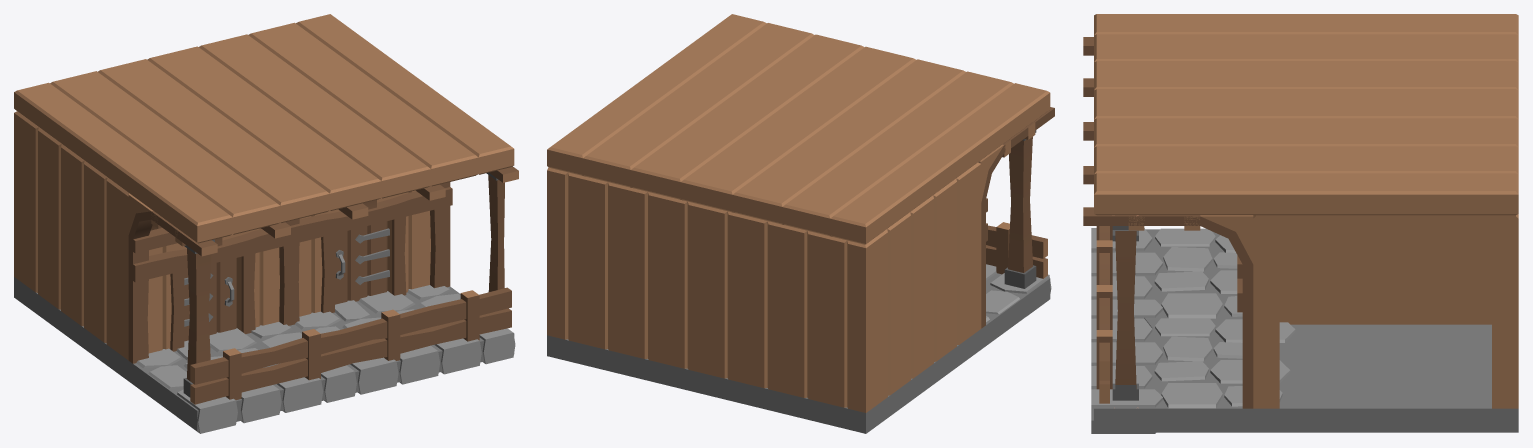
File: LivingRooms_Lvl_02_Straight_Left.fbx
3 views of the same model, side by side, from view 1: azimuth 30°, elevation 25°; view 2: azimuth 150°, elevation 25°; view 3: azimuth 270°, elevation 25° (orthographic). The views are drawn at different scales.
Parts seen in each view (by area): view 1: LivingRooms_Lvl_02_Straight_Left; view 2: LivingRooms_Lvl_02_Straight_Left; view 3: LivingRooms_Lvl_02_Straight_Left.
Boxes of the visible parts, <box> form: LivingRooms_Lvl_02_Straight_Left: <box>14,14,518,433</box>; LivingRooms_Lvl_02_Straight_Left: <box>547,14,1054,433</box>; LivingRooms_Lvl_02_Straight_Left: <box>1083,14,1518,433</box>.
Bounding box in the file's own units: 8 × 5.05 × 8.2.
